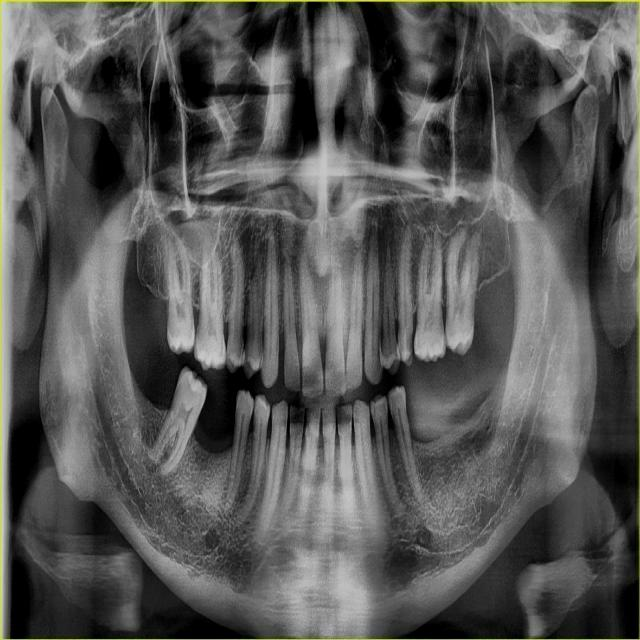Caries: (405, 324, 413, 354)
Missing teeth: (405, 358, 486, 441), (186, 390, 240, 455)
